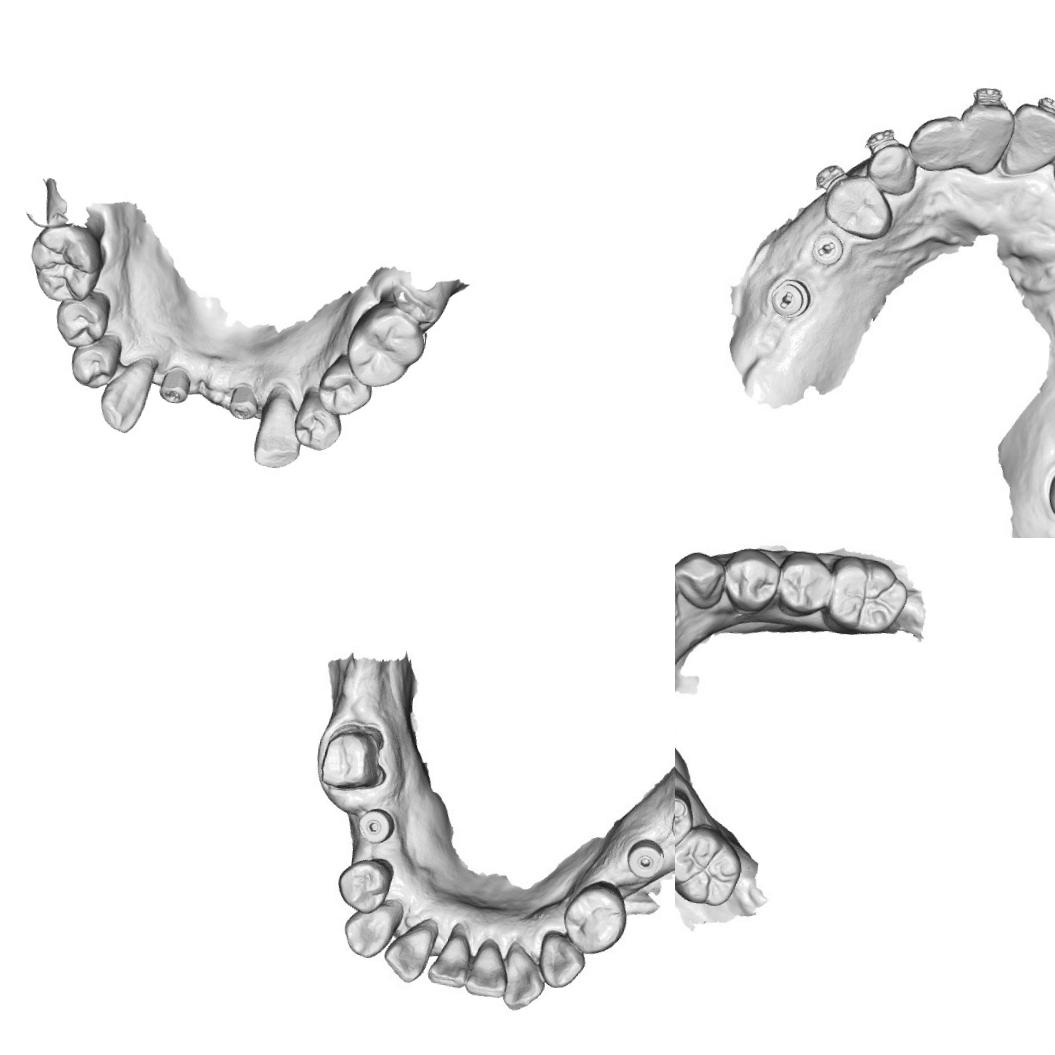canine: (248, 376, 314, 472), (95, 353, 157, 436), (338, 900, 404, 966), (864, 139, 920, 200), (675, 548, 726, 613), (534, 929, 586, 990)
crown: (316, 718, 396, 798)
implant: (624, 837, 668, 882), (156, 364, 196, 408), (357, 804, 395, 848), (224, 381, 262, 423)
implant_minus: (768, 276, 812, 320), (810, 231, 848, 265)
incisor: (910, 113, 972, 173), (460, 938, 514, 1002), (382, 924, 436, 986), (1008, 103, 1055, 173), (502, 946, 549, 1013), (424, 929, 472, 994), (964, 104, 1011, 170)
molar: (342, 296, 430, 393), (824, 553, 914, 642), (25, 222, 106, 306), (675, 823, 751, 911)
premolar: (562, 875, 630, 959), (822, 172, 894, 232), (314, 354, 376, 420), (720, 546, 780, 613), (776, 552, 836, 618), (52, 288, 112, 352), (65, 330, 123, 392), (290, 393, 344, 454), (333, 859, 386, 916), (675, 787, 698, 851)
